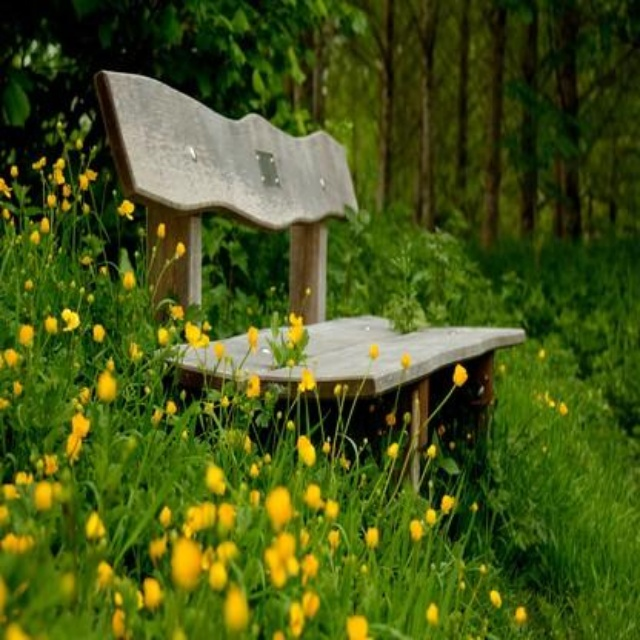obstacle: (69, 49, 540, 535)
